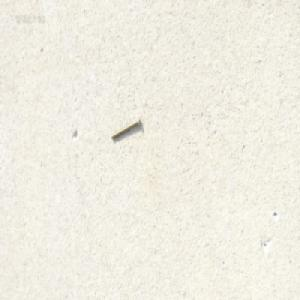Bolt: (109, 116, 140, 140)
